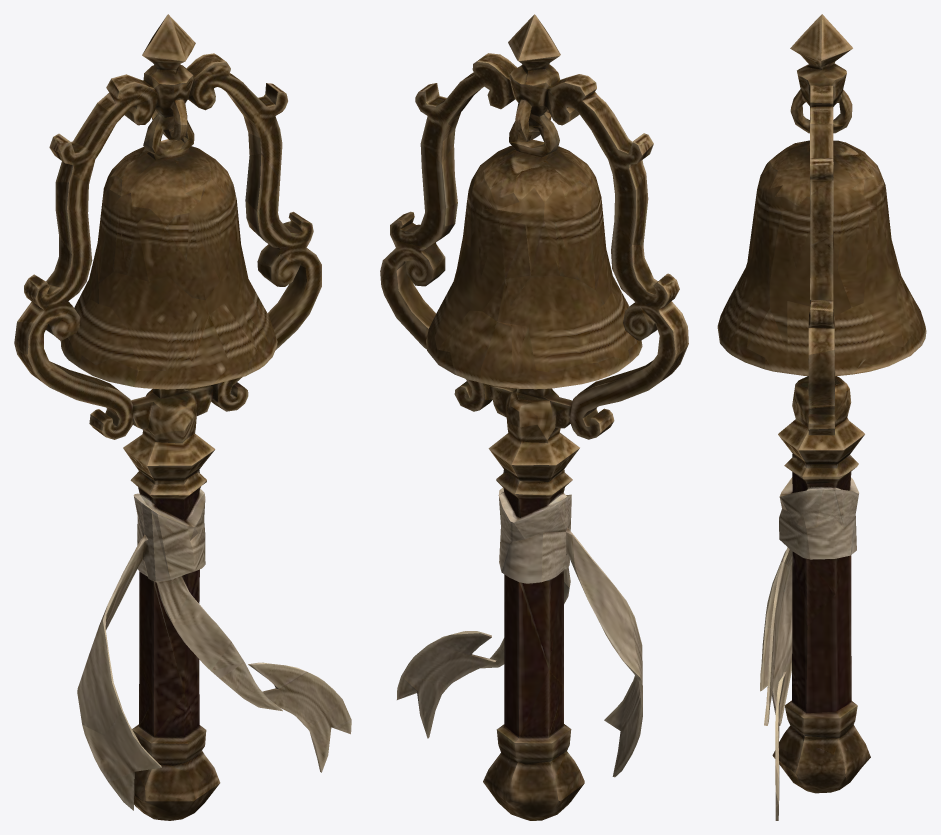
The model's file is bell_scepter.glb.
3 renders of one model, left to right at view 1: azimuth 30°, elevation 25°; view 2: azimuth 150°, elevation 25°; view 3: azimuth 270°, elevation 25°, orthographic. The views are drawn at different scales.
Bounding box in the file's own units: 0.3873 × 0.9661 × 0.2361.
1 material, 1 textured.
